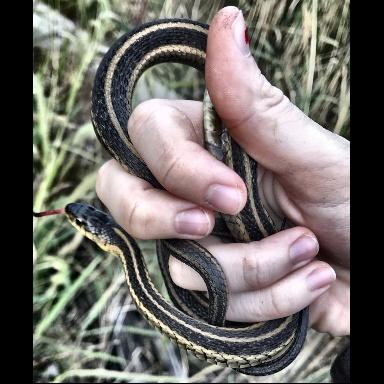snake: (65, 18, 289, 375)
